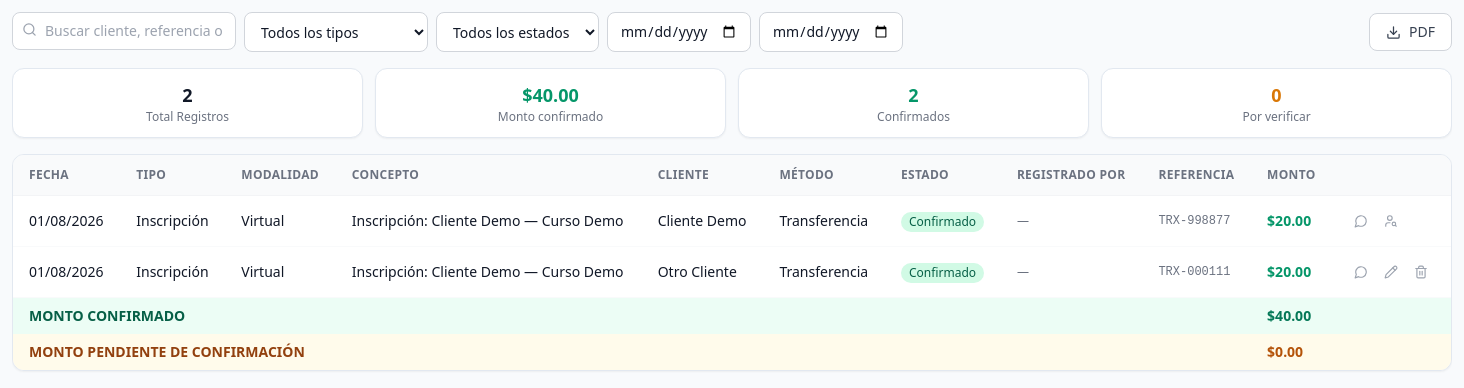
Test: IngresosList — trazabilidad hacia la inscripción de origen › búsqueda por número de comprobante/referencia encuentra el ingreso
expect the text "Cliente Demo" is shown: met, box [642,196,763,246]
expect the text "Otro Cliente" is shown: met, box [642,246,763,298]
Type "TRX-998877" into the field with placeholder "Buscar cliente, referencia o comprobante".
click(124, 31); type("TRX-998877")  # box [12,12,236,50]
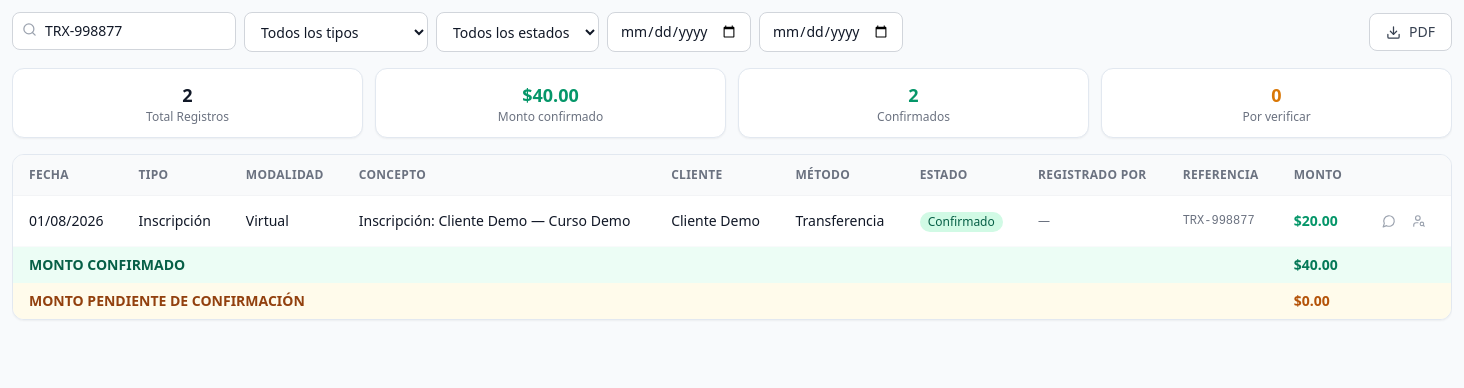
expect the text "Cliente Demo" is shown: met, box [655,196,780,246]
expect the text "Otro Cliente" is gone: met
